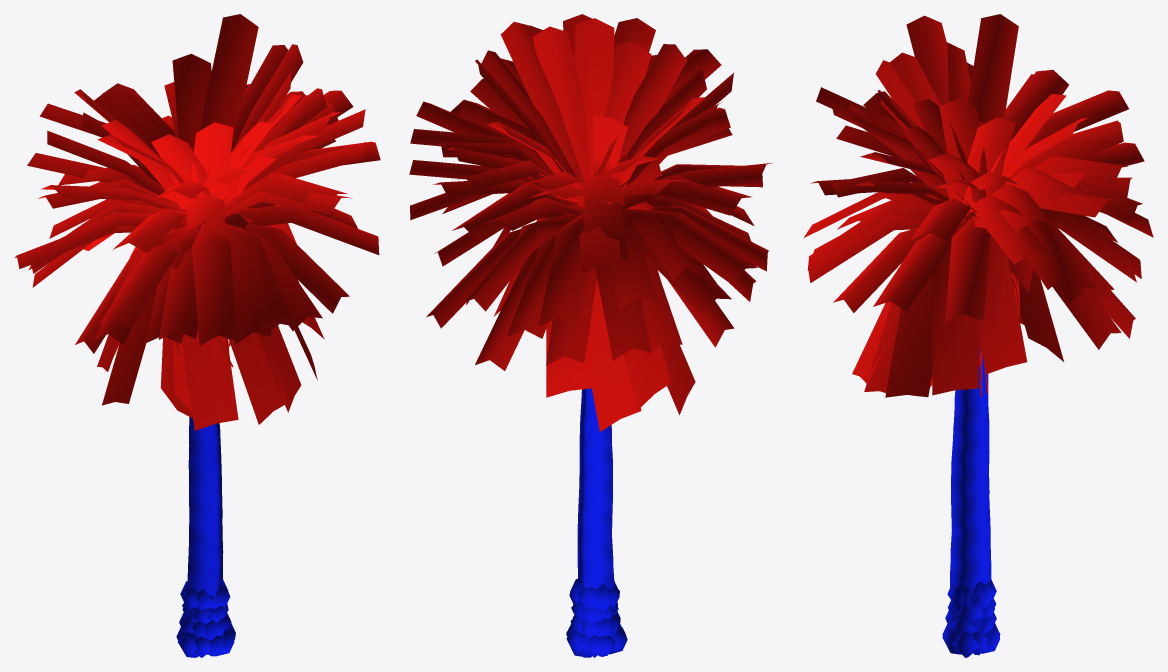
File: PalmTree.fbx
3 views of the same model, side by side, from view 1: azimuth 30°, elevation 25°; view 2: azimuth 150°, elevation 25°; view 3: azimuth 270°, elevation 25° (orthographic). The views are drawn at different scales.
Visible parts, largest first — view 1: PalmTree; view 2: PalmTree; view 3: PalmTree.
Boxes of the visible parts, x1,y1,x2,y2 form: PalmTree: [15, 14, 380, 657]; PalmTree: [409, 14, 773, 657]; PalmTree: [804, 14, 1153, 657].
Bounding box in the file's own units: 893 × 1582 × 844.
